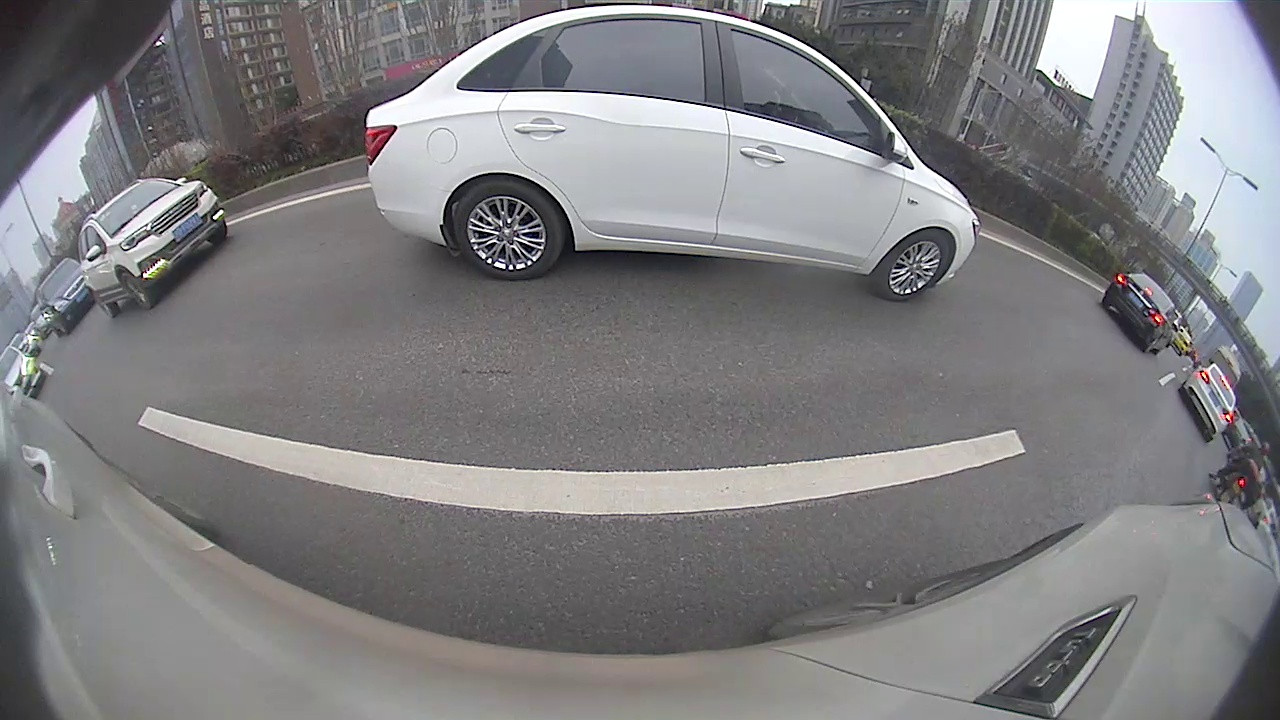car: (363, 4, 982, 304), (78, 178, 228, 320), (1100, 269, 1177, 355), (1178, 363, 1238, 443)
front: (877, 233, 958, 301), (117, 270, 153, 311)
rear: (452, 183, 561, 278)
